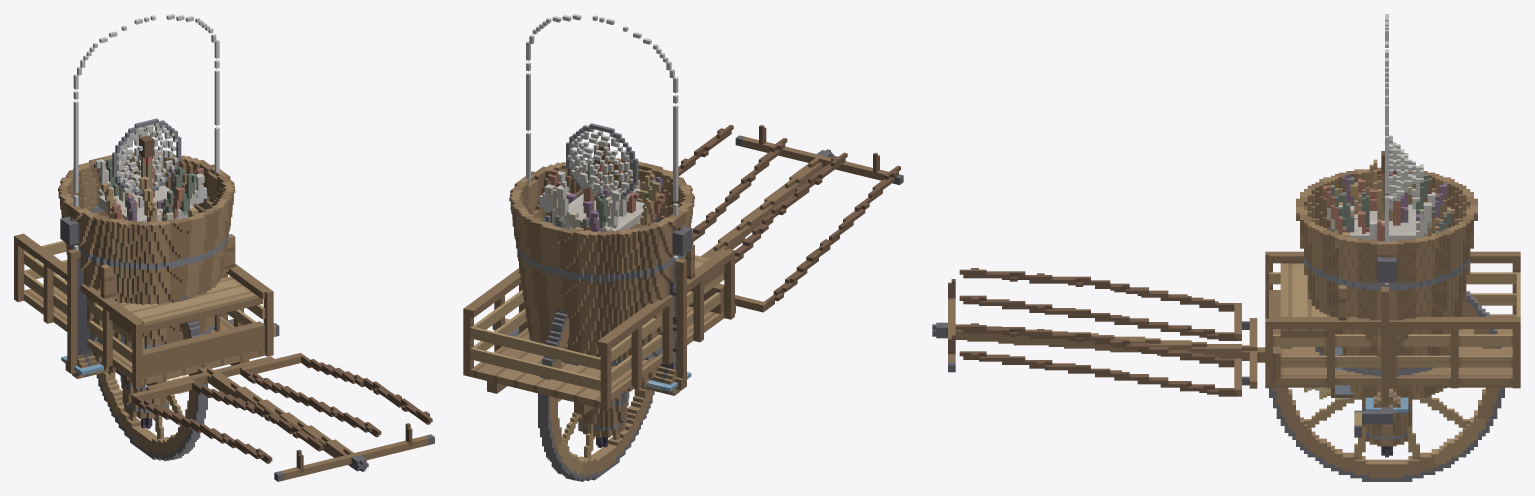
File: props.glb
The picture shows the model from 3 angles, left to right: view 1: azimuth 30°, elevation 25°; view 2: azimuth 150°, elevation 25°; view 3: azimuth 270°, elevation 25°; orthographic projection. The views are drawn at different scales.
Visible parts, largest first — view 1: prop_cart_body, prop_tub, prop_cart_rim, prop_tubfill, prop_net, prop_chalkdoor, prop_tally, prop_well_bucket, prop_stand, prop_stick, prop_well_drum; view 2: prop_cart_body, prop_tub, prop_cart_rim, prop_tubfill, prop_net, prop_chalkdoor, prop_tally, prop_well_bucket, prop_stand, prop_well_drum; view 3: prop_cart_body, prop_tub, prop_cart_rim, prop_tubfill, prop_net, prop_well_bucket, prop_well_drum, prop_tally, prop_stand, prop_chalkdoor.
Part boxes in pixels (<box>): prop_cart_body: <box>14,233,434,481</box>; prop_tub: <box>58,152,235,374</box>; prop_cart_rim: <box>96,296,207,461</box>; prop_tubfill: <box>94,148,204,222</box>; prop_net: <box>112,118,181,196</box>; prop_chalkdoor: <box>73,14,219,250</box>; prop_tally: <box>67,249,227,370</box>; prop_well_bucket: <box>120,376,169,419</box>; prop_stand: <box>98,185,194,222</box>; prop_stick: <box>139,135,154,194</box>; prop_well_drum: <box>72,319,279,378</box>; prop_cart_body: <box>463,125,903,414</box>; prop_tub: <box>509,158,694,391</box>; prop_cart_rim: <box>538,308,654,481</box>; prop_tubfill: <box>544,150,665,232</box>; prop_net: <box>566,123,638,210</box>; prop_chalkdoor: <box>526,14,678,369</box>; prop_tally: <box>519,258,686,378</box>; prop_well_bucket: <box>577,391,629,437</box>; prop_stand: <box>552,193,644,231</box>; prop_well_drum: <box>492,318,680,395</box>; prop_cart_body: <box>932,251,1520,407</box>; prop_tub: <box>1296,167,1477,401</box>; prop_cart_rim: <box>1269,291,1504,481</box>; prop_tubfill: <box>1323,159,1454,241</box>; prop_net: <box>1381,134,1423,220</box>; prop_well_bucket: <box>1362,401,1412,446</box>; prop_well_drum: <box>1354,389,1400,437</box>; prop_tally: <box>1381,286,1388,407</box>; prop_stand: <box>1350,204,1423,241</box>; prop_chalkdoor: <box>1385,14,1388,284</box>.
Size of the model in its own units: 1.54 by 3.1 by 3.65.
